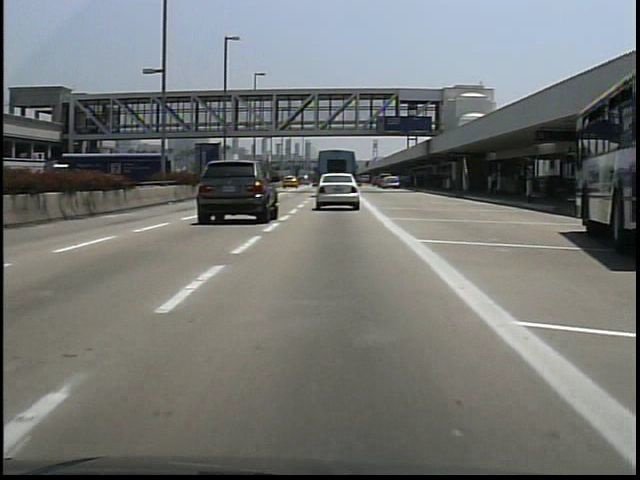person: (484, 166, 505, 203)
